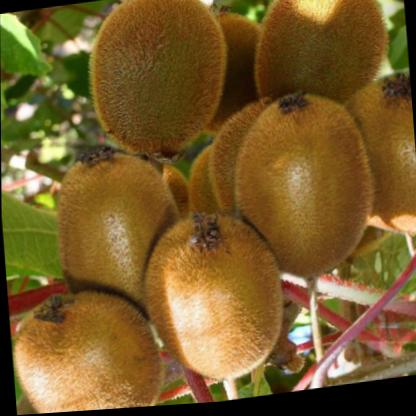--: (230, 78, 380, 316), (42, 132, 194, 340), (143, 197, 285, 403), (80, 0, 237, 168), (10, 272, 168, 416), (244, 0, 395, 144), (342, 75, 416, 267)
